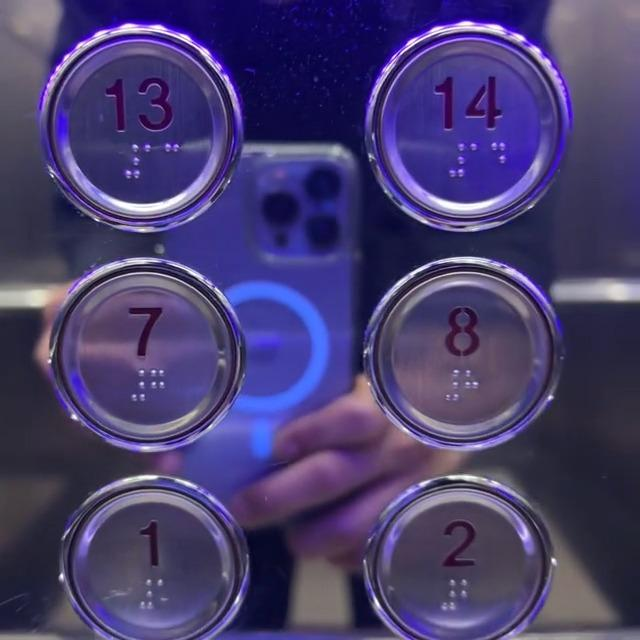button: (336, 28, 587, 205), (41, 257, 248, 449), (364, 247, 557, 447), (45, 468, 265, 640), (374, 474, 558, 640), (74, 31, 216, 221)
